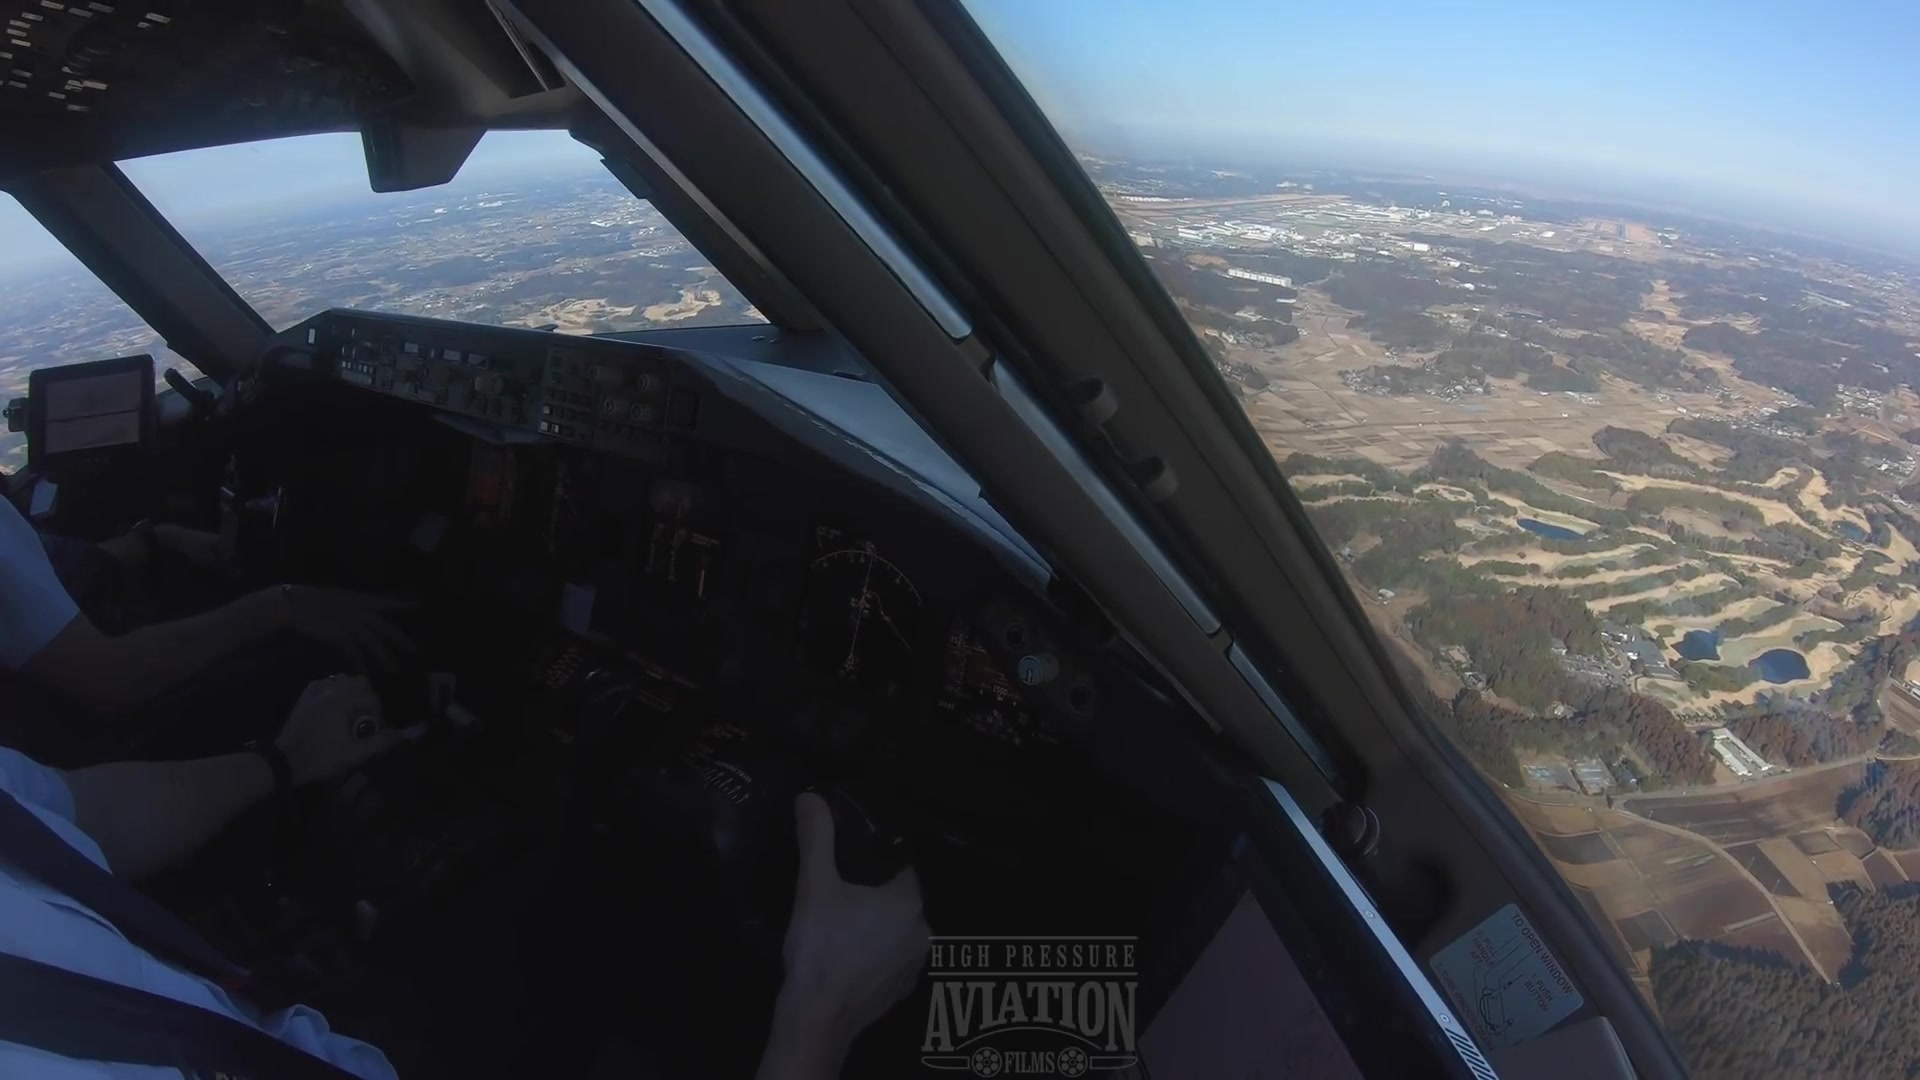runway: (1613, 219, 1631, 243)
